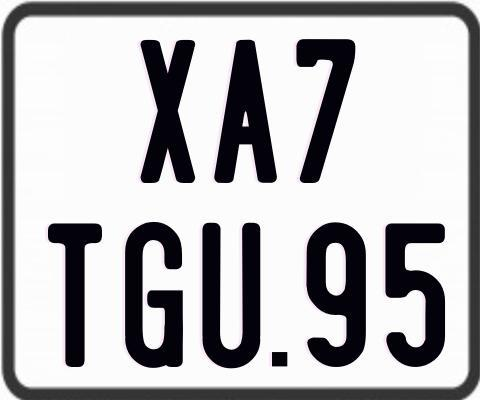5: (382, 223, 448, 373)
7: (296, 39, 355, 187)
9: (304, 221, 368, 366)
A: (213, 39, 277, 186)
G: (124, 219, 184, 367)
T: (47, 223, 102, 372)
U: (201, 222, 264, 370)
X: (139, 38, 194, 187)
